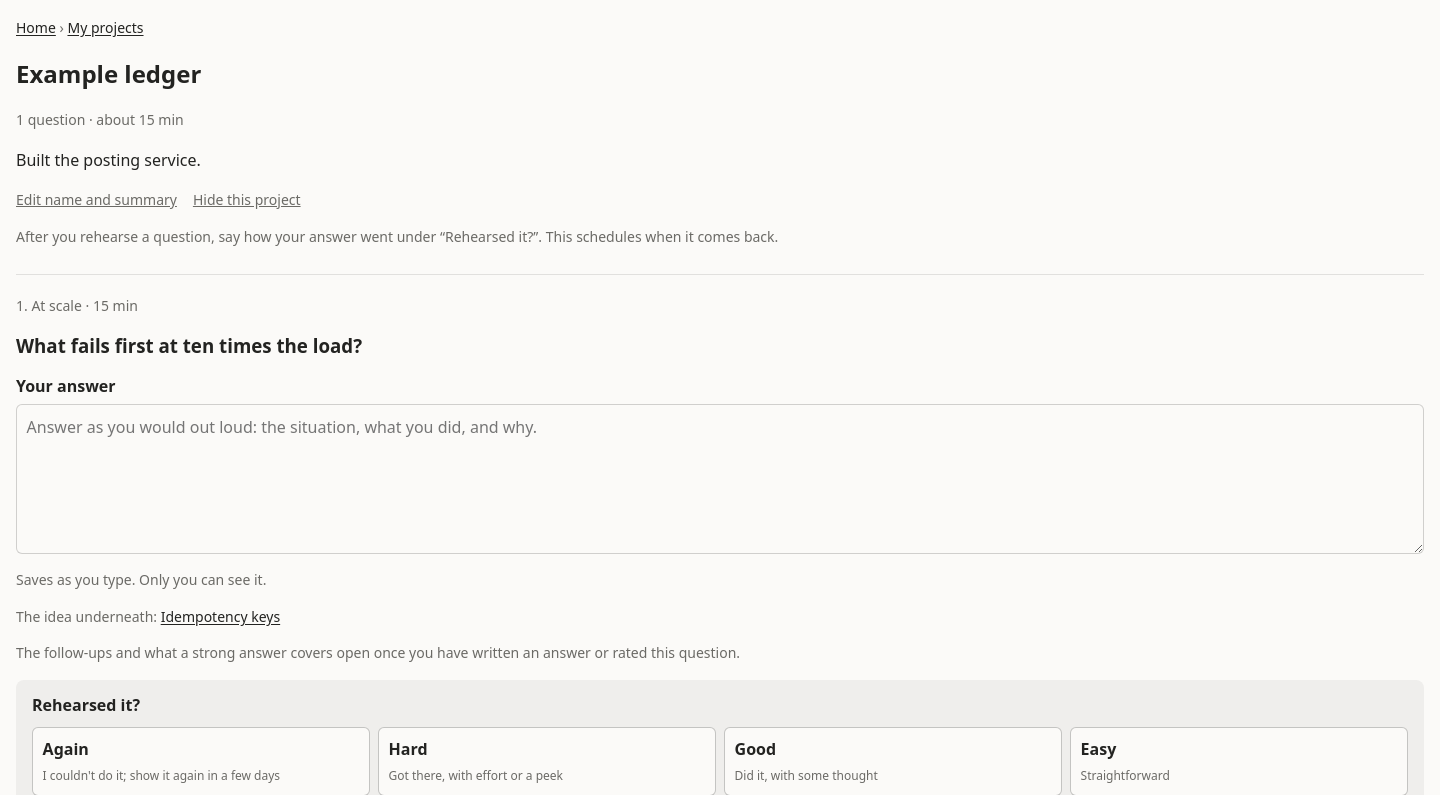
Scenario: ProjectPage › unfolds them after a rating, and the rating can be undone
Expected: the heading "Example ledger" is shown, [16,57,201,90]
Click the button "Again I couldn't do it; show it again in a few days": (66, 749) [32,727,370,794]
(page scrolled)
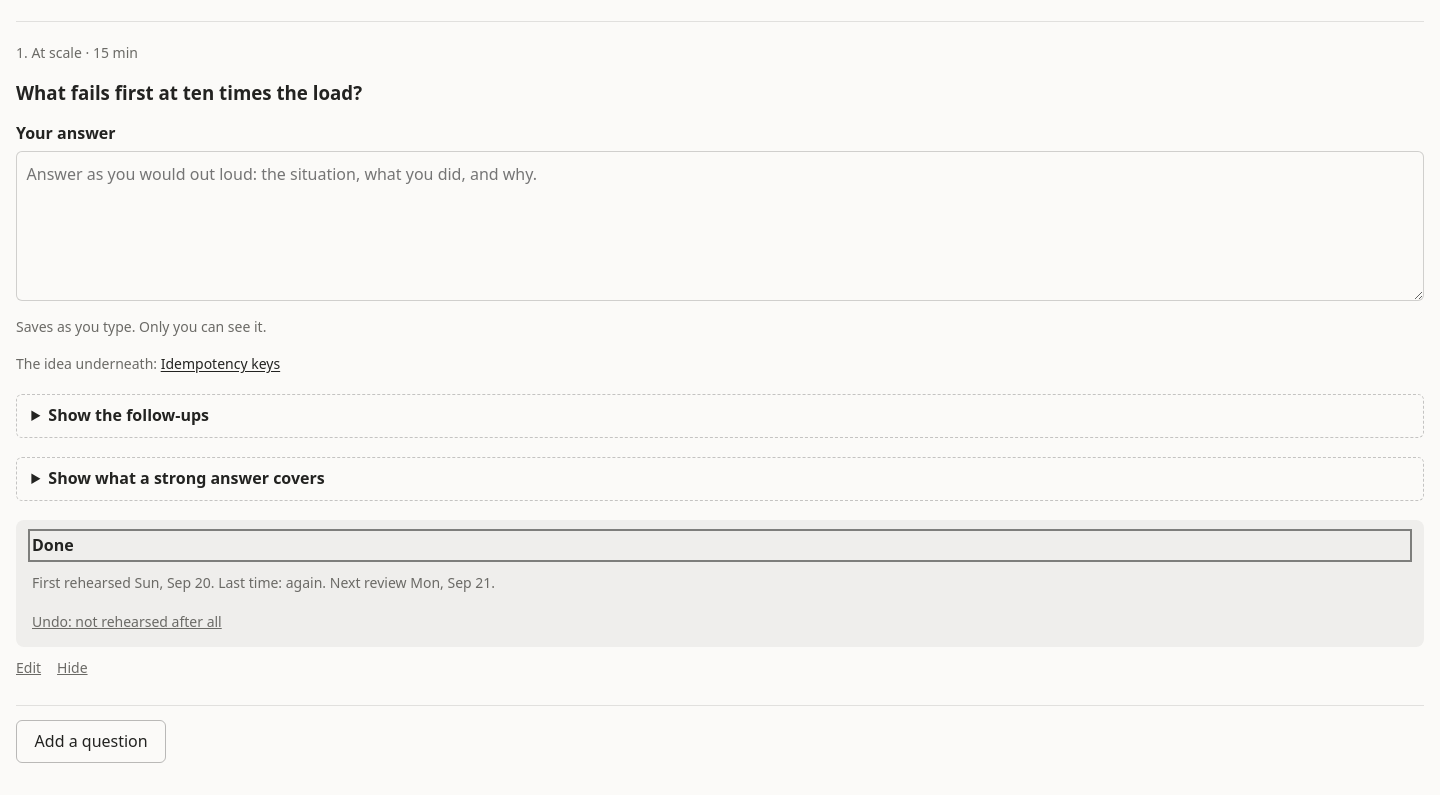
Result: the heading "Show what a strong answer covers" is shown at [48,467,325,489]
Click the button "Undo: not rehearsed after all": (127, 622) [32,610,222,633]
(page scrolled)
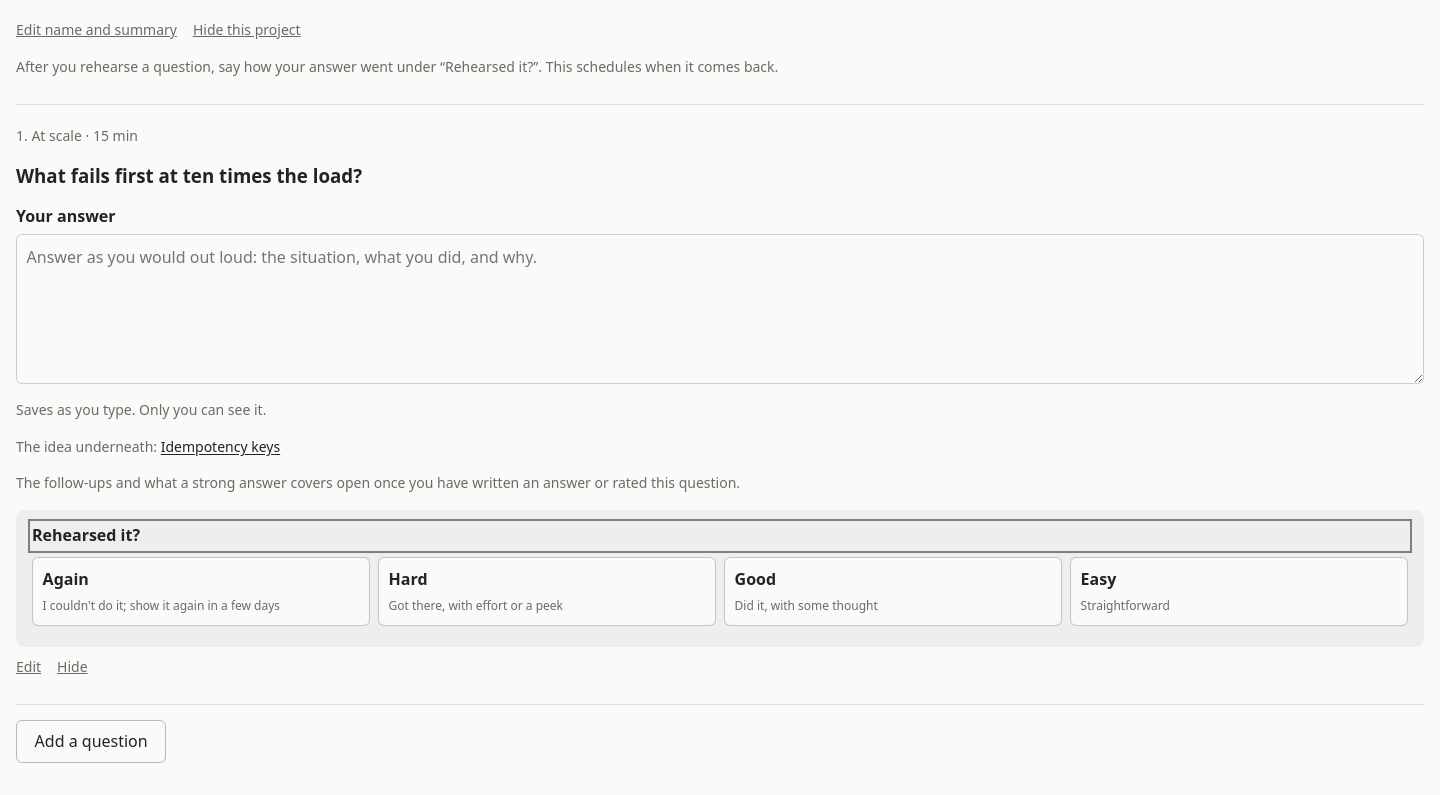
Result: the heading "Show what a strong answer covers" is gone
